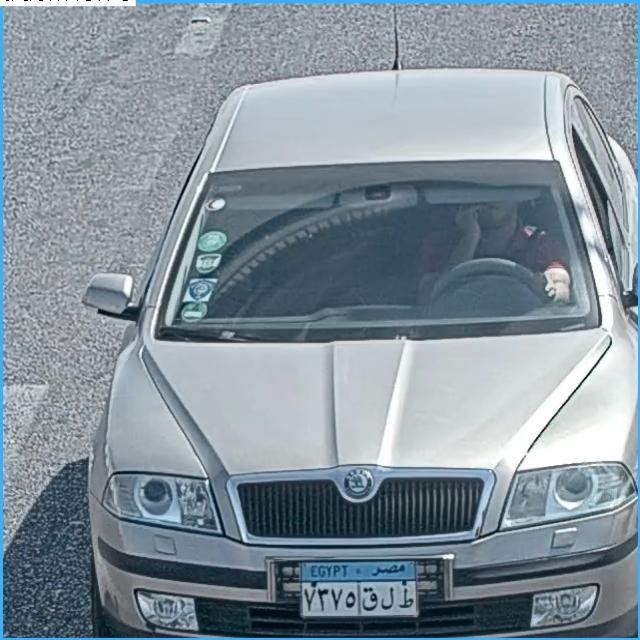windshield: (157, 164, 590, 338)
